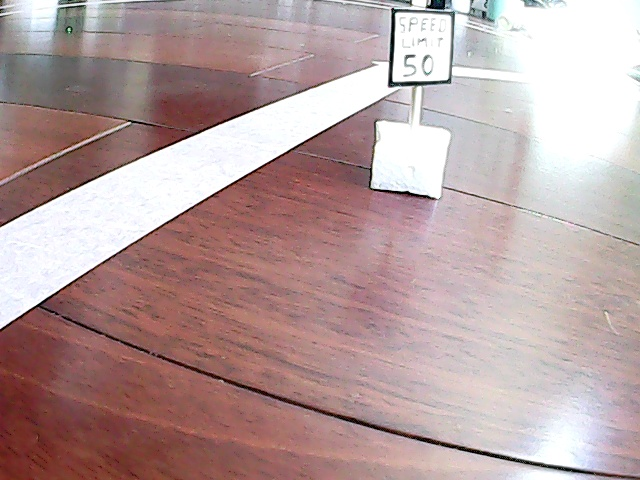speed_50: (370, 5, 468, 199)
